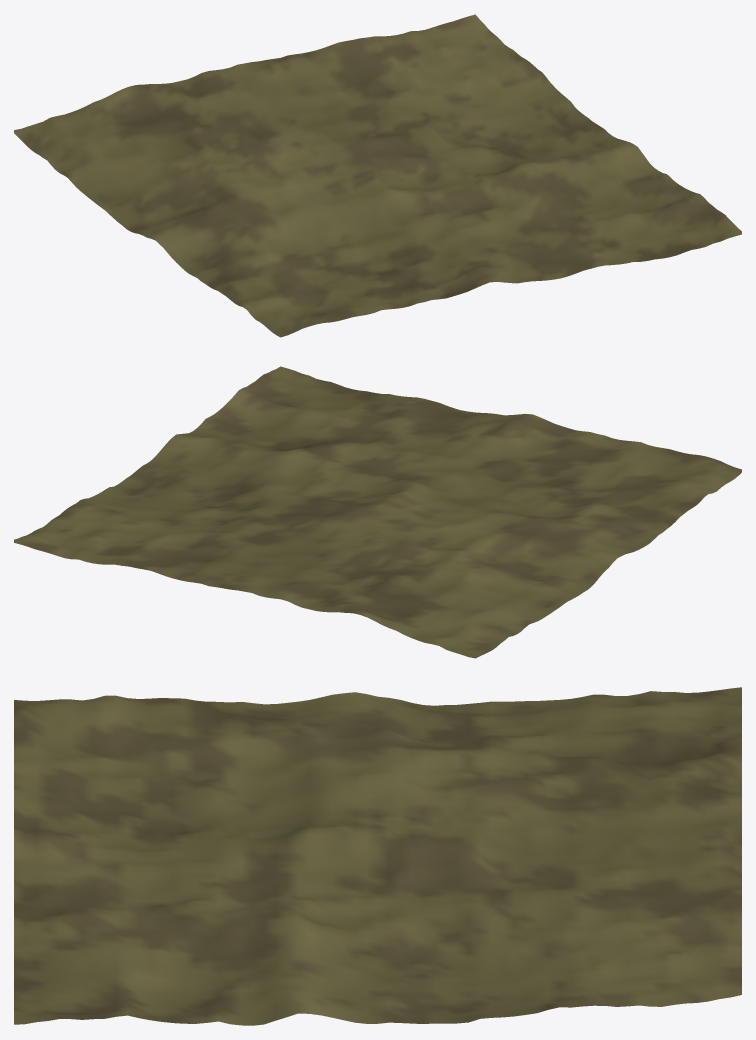
File: land_f_09_04.glb
3 views of the same model, one above another, from view 1: azimuth 30°, elevation 25°; view 2: azimuth 150°, elevation 25°; view 3: azimuth 270°, elevation 25° (orthographic). The views are drawn at different scales.
Visible parts, largest first — view 1: land_f_09_04; view 2: land_f_09_04; view 3: land_f_09_04.
Boxes of the visible parts, x1=… form: land_f_09_04: x1=14, y1=14, x2=741, y2=337; land_f_09_04: x1=14, y1=366, x2=741, y2=658; land_f_09_04: x1=14, y1=687, x2=741, y2=1025.
Bounding box in the file's own units: 3840 × 338 × 3840.
